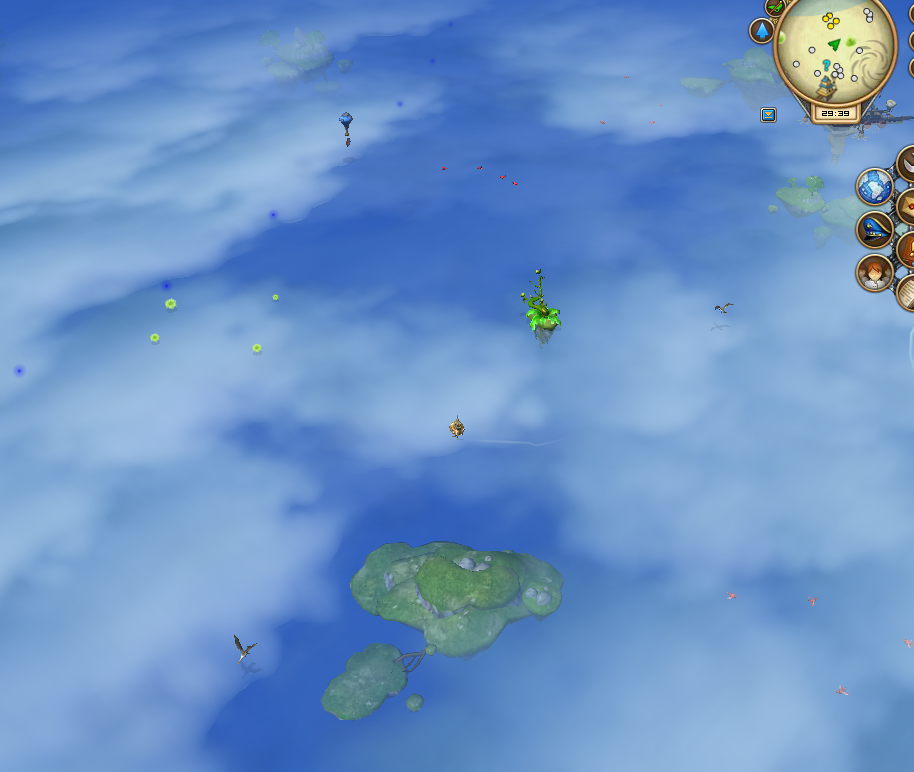dandelion-empty: (513, 262, 566, 340)
fluff: (163, 297, 178, 312), (250, 340, 264, 354), (148, 331, 162, 344), (268, 291, 281, 303)
